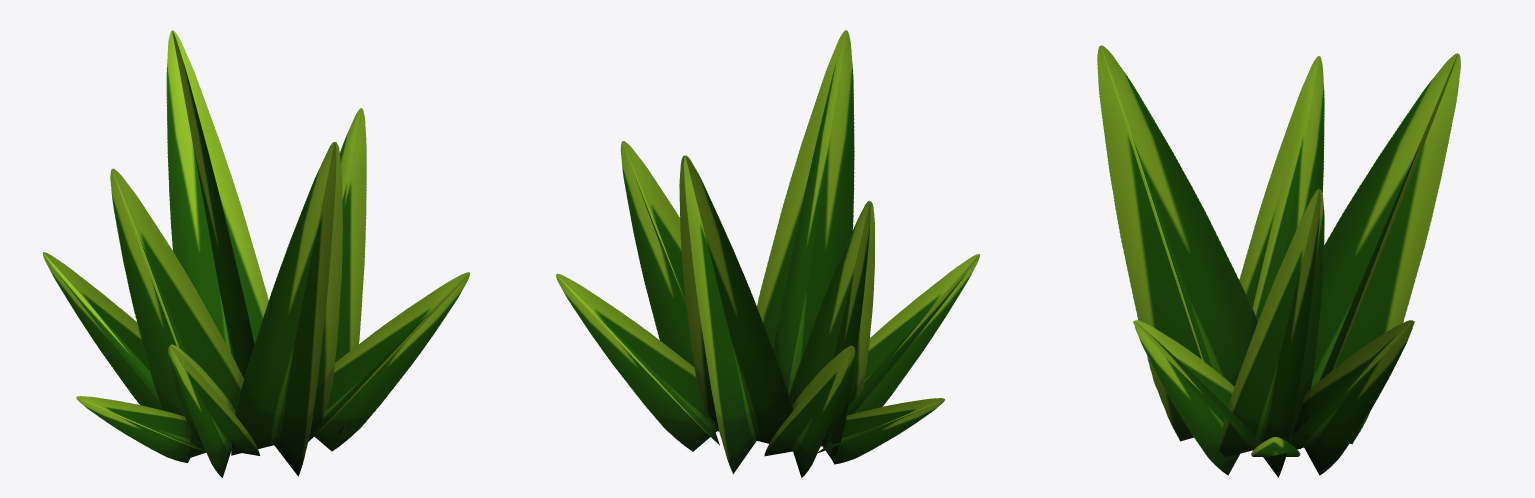
Rendered from F_W_O_plants_005.fbx.
3 renders of one model, left to right at view 1: azimuth 30°, elevation 25°; view 2: azimuth 150°, elevation 25°; view 3: azimuth 270°, elevation 25°, orthographic. The views are drawn at different scales.
Visible parts, largest first — view 1: F_W_O_plants_005; view 2: F_W_O_plants_005; view 3: F_W_O_plants_005.
Part boxes in pixels (box(x1,y1,x2,y2)): F_W_O_plants_005: box(43, 30, 469, 477); F_W_O_plants_005: box(556, 30, 979, 477); F_W_O_plants_005: box(1097, 45, 1460, 477).
Size of the model in its own units: 3.57 by 3.47 by 3.57.
